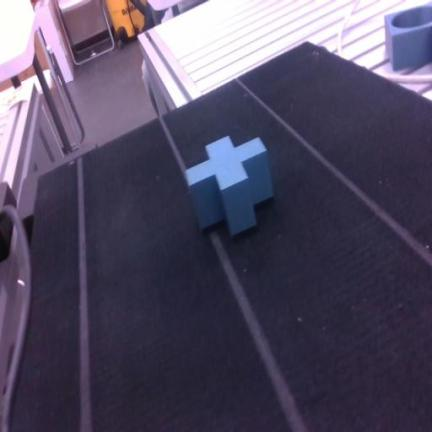cross: (186, 137, 273, 235)
